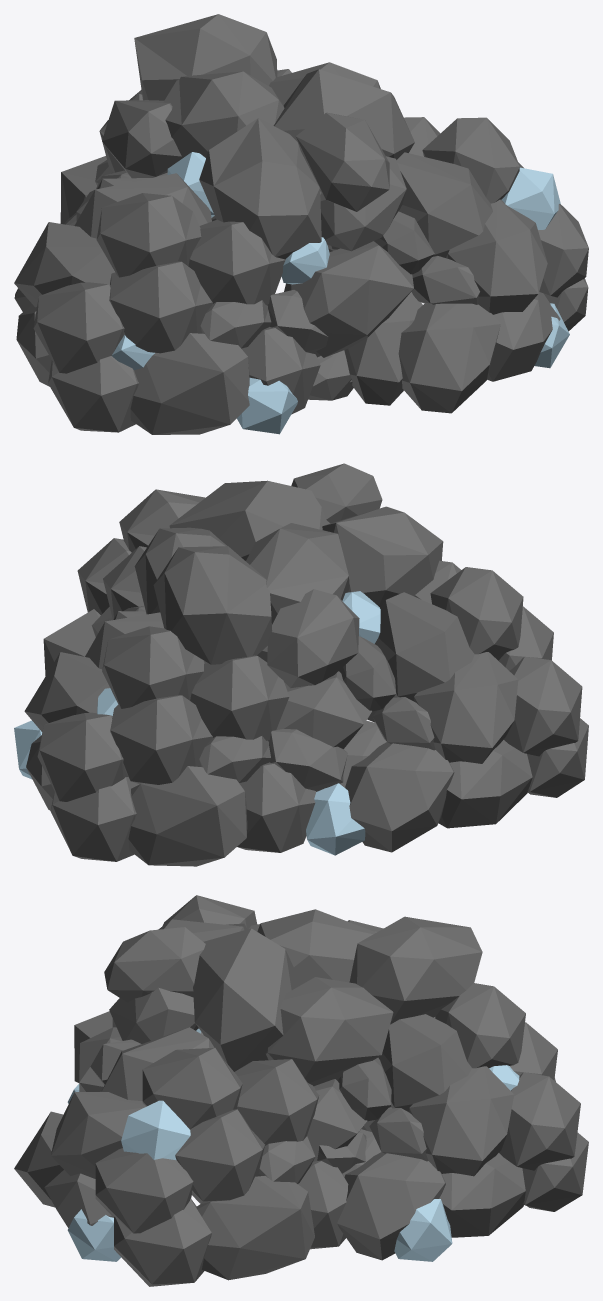
File: Mine_Diamond_Resources.fbx
The picture shows the model from 3 angles, top to bottom: view 1: azimuth 30°, elevation 25°; view 2: azimuth 150°, elevation 25°; view 3: azimuth 270°, elevation 25°; orthographic projection. The views are drawn at different scales.
Parts seen in each view (by area): view 1: Caverne.001, Caverne, Icosphere.007, Icosphere.006, Icosphere.010, Icosphere.011, Icosphere.008, Icosphere.004, Icosphere.005, Caverne.002, Icosphere.016, Icosphere.002 (+5 smaller); view 2: Caverne.002, Caverne.001, Icosphere.006, Caverne, Icosphere.007, Icosphere.004, Icosphere.008, Icosphere.010, Icosphere.011, Icosphere.013, Icosphere.009, Icosphere.012 (+1 smaller); view 3: Caverne, Caverne.002, Icosphere.008, Icosphere.006, Icosphere.009, Icosphere.011, Icosphere.010, Icosphere.005, Icosphere.002, Caverne.001, Icosphere.014, Icosphere.015 (+1 smaller).
Part boxes in pixels (x1,y1,x2,y2): Caverne.001: (14,170,353,434); Caverne: (284,117,588,413); Icosphere.007: (199,118,321,259); Icosphere.006: (134,14,277,100); Icosphere.010: (163,71,284,158); Icosphere.011: (296,112,389,211); Icosphere.008: (273,69,414,159); Icosphere.004: (102,100,181,178); Icosphere.005: (320,156,406,251); Caverne.002: (60,69,339,252); Icosphere.016: (237,377,297,434); Icosphere.002: (501,167,560,229); Caverne.002: (24,606,347,866); Caverne.001: (276,560,588,852); Icosphere.006: (153,546,272,664); Caverne: (43,489,377,722); Icosphere.007: (322,506,443,606); Icosphere.004: (267,589,359,688); Icosphere.008: (169,480,330,560); Icosphere.010: (246,523,349,624); Icosphere.011: (291,463,382,523); Icosphere.013: (306,783,365,855); Icosphere.009: (134,527,226,614); Icosphere.012: (342,591,380,643); Caverne: (14,1027,366,1286); Caverne.002: (307,983,588,1260); Icosphere.008: (193,928,296,1071); Icosphere.006: (349,916,482,1024); Icosphere.009: (266,977,393,1086); Icosphere.011: (104,927,205,1002); Icosphere.010: (257,909,376,987); Icosphere.005: (109,987,198,1043); Icosphere.002: (121,1100,190,1160); Caverne.001: (74,895,391,1131); Icosphere.014: (394,1199,452,1261); Icosphere.015: (67,1209,121,1261).
Bounding box in the file's own units: 989 × 507 × 979.
